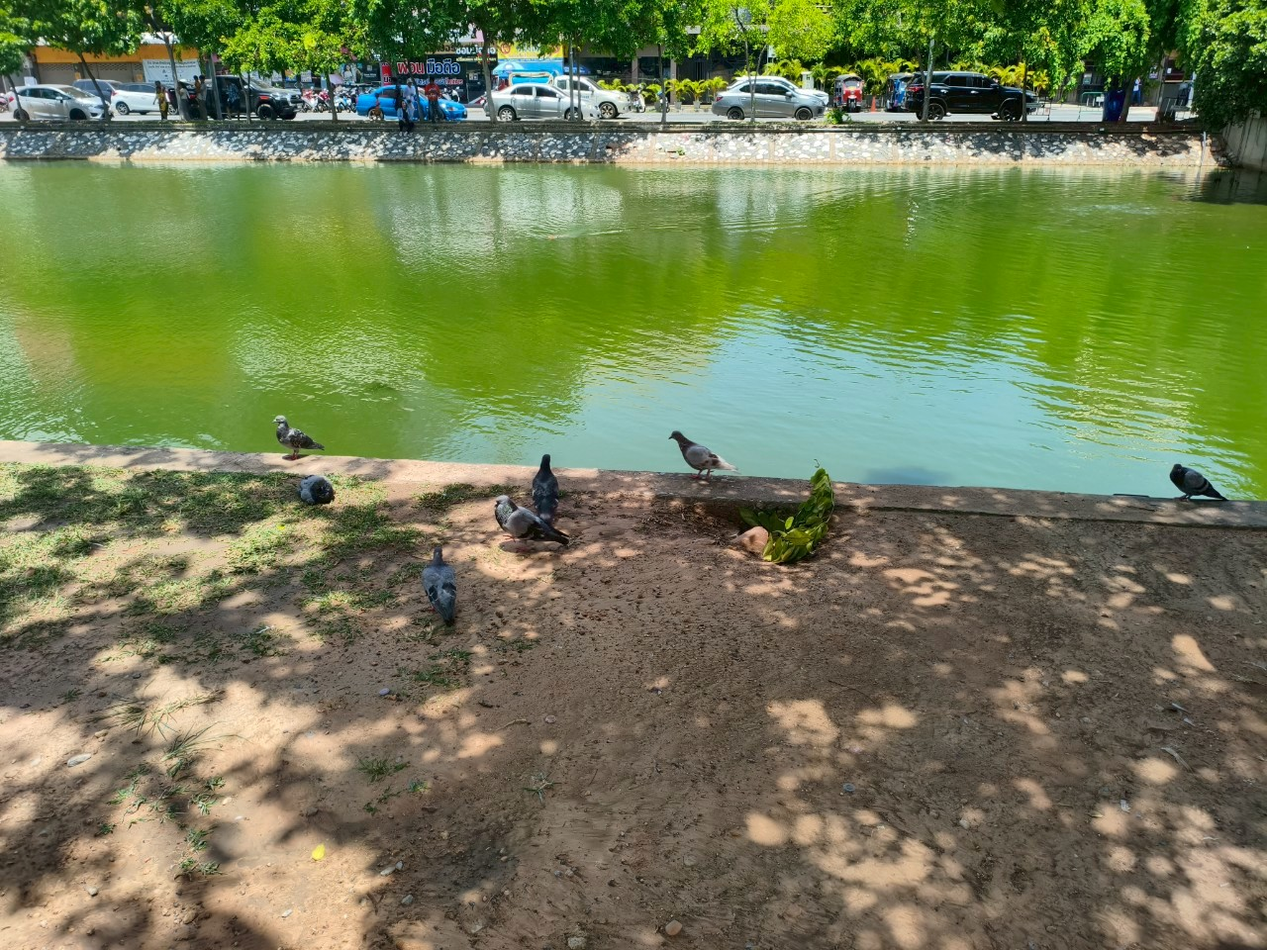Pigeon: (496, 496, 568, 542), (670, 431, 732, 480), (423, 545, 456, 624), (275, 417, 324, 458), (1170, 464, 1226, 499), (533, 453, 558, 525), (299, 475, 334, 504)
